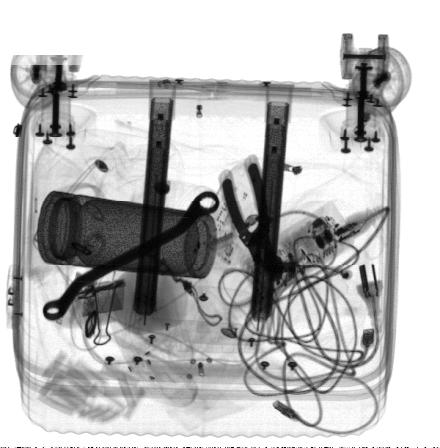Pliers: (218, 153, 286, 282)
Wrench: (43, 190, 220, 319)
